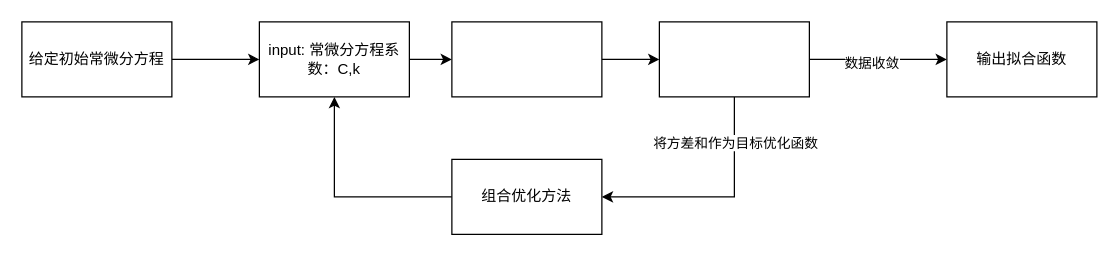
This 1119x256 diagram has some shape labels left out. The box of each missing label's shape, as (x1, y1, x2, y2) in pixels:
计算出拟合常微分方程: (451, 21, 602, 97)
计算拟合方程与原数据点的方差和: (658, 21, 809, 97)
